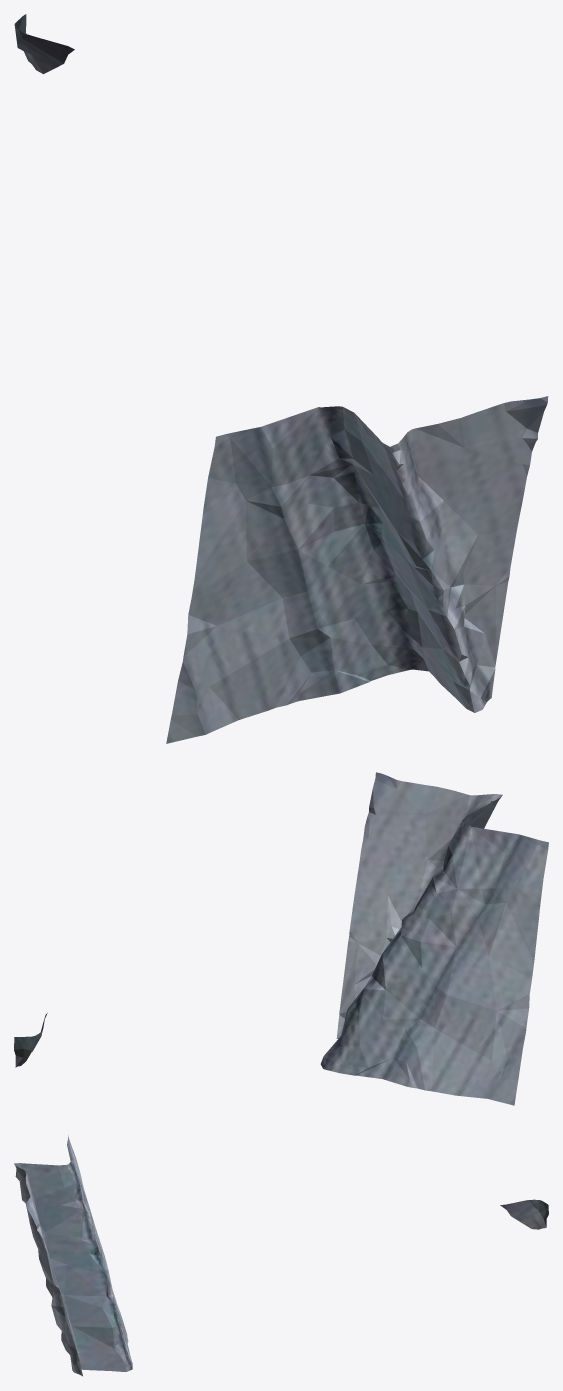
The model's file is Tile_+003_+006_L24_0010001.obj.
3 renders of one model, top to bottom at view 1: azimuth 30°, elevation 25°; view 2: azimuth 150°, elevation 25°; view 3: azimuth 270°, elevation 25°, orthographic. The views are drawn at different scales.
Bounding box in the file's own units: 0.9531 × 1.08 × 3.03.
Materials: 1 (1 with a texture image).
